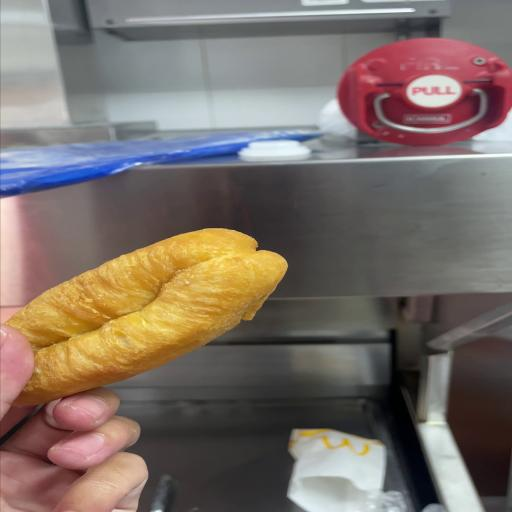brand_golden_good: (7, 229, 287, 405)
